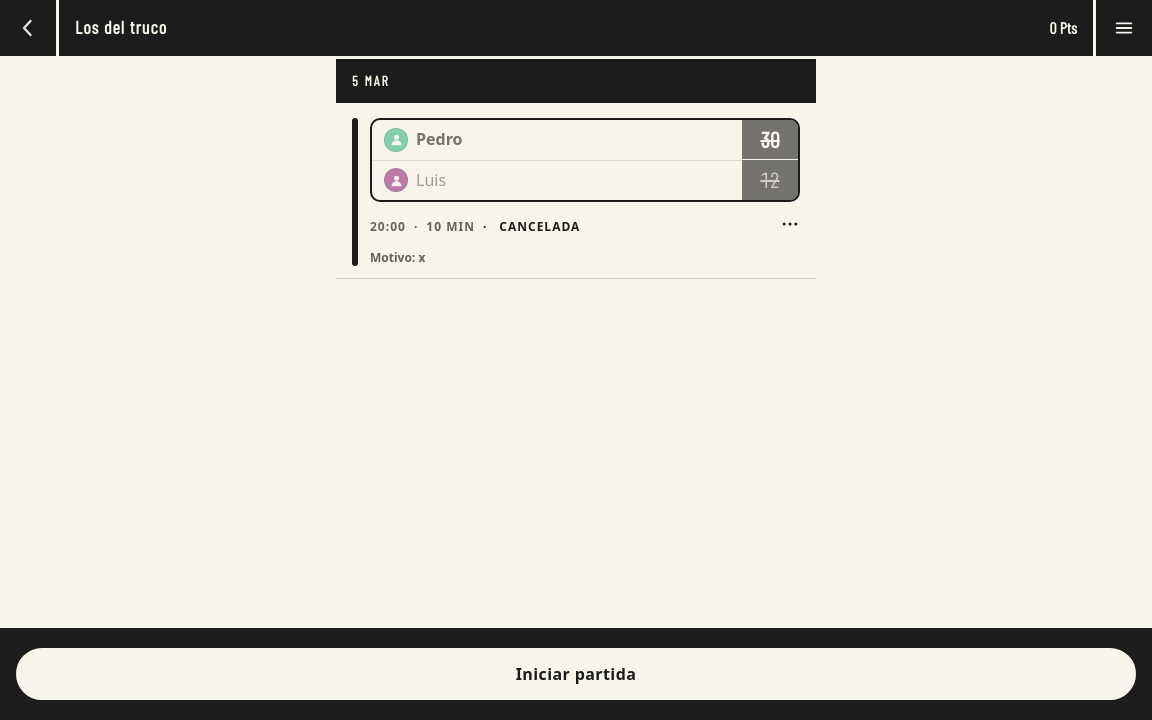
cancelar y restaurar partidas › restaura una partida cancelada
Click the button named "Opciones de la partida": [790, 224] box [768,202,812,246]
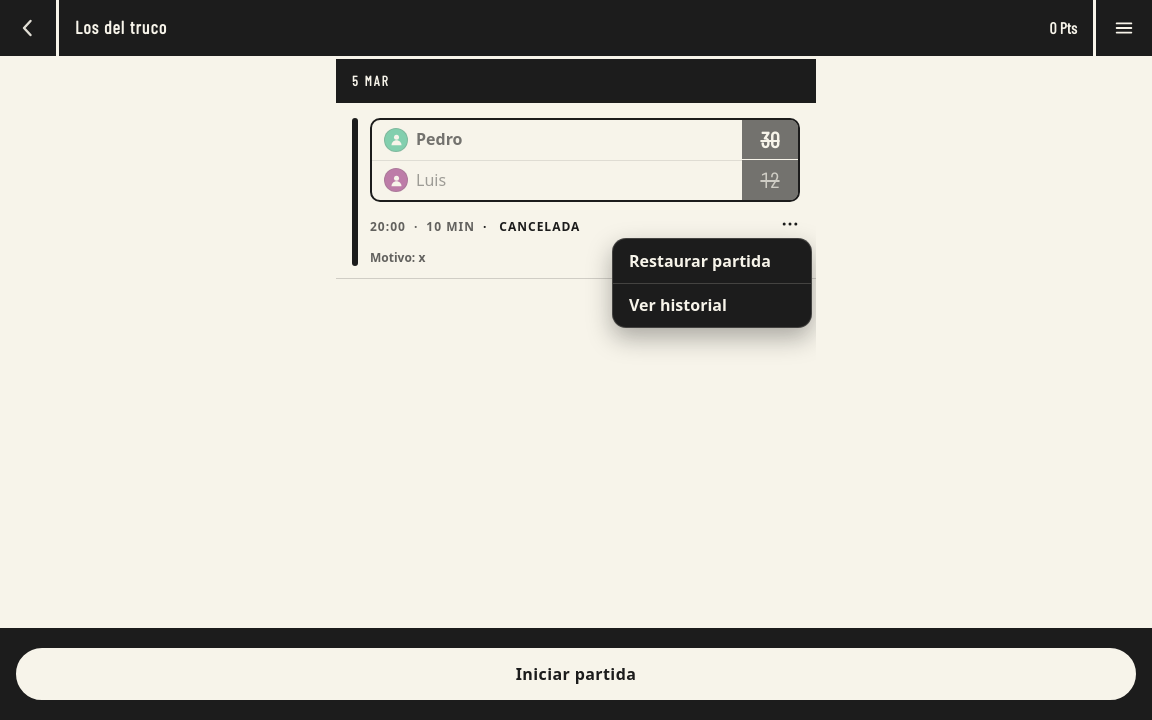
Click the menu item "Restaurar partida": [712, 261] box [613,239,811,283]
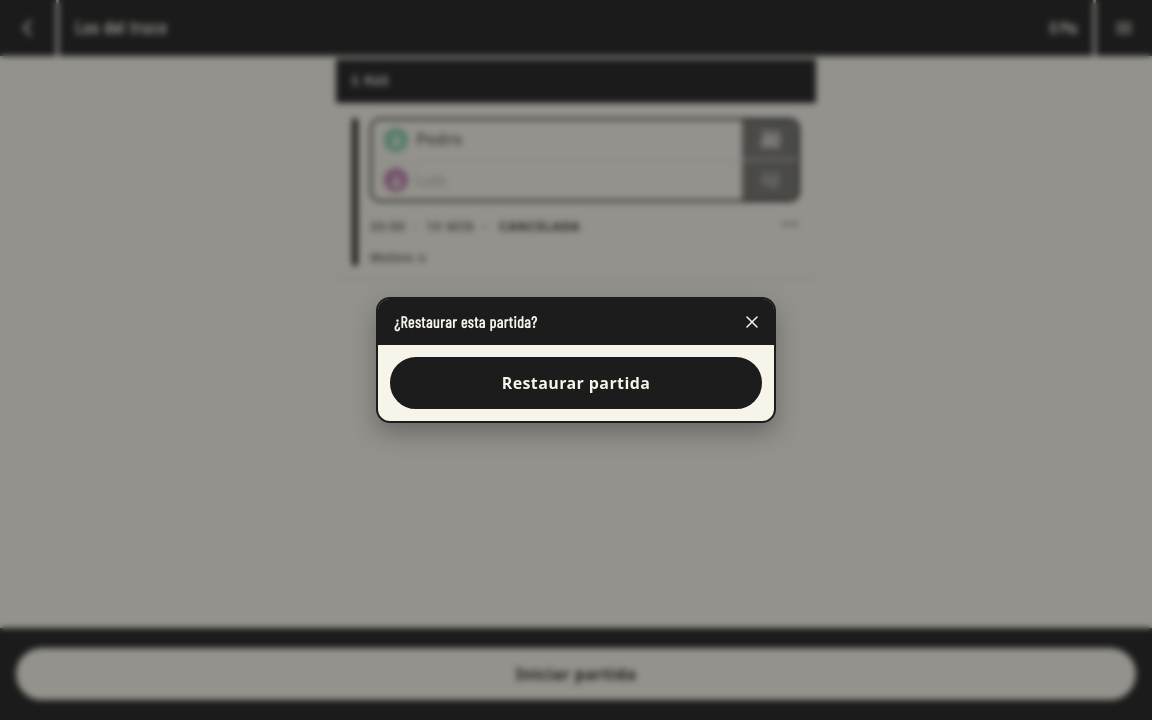
Click the button "Restaurar partida": [576, 383] box [390,357,762,409]
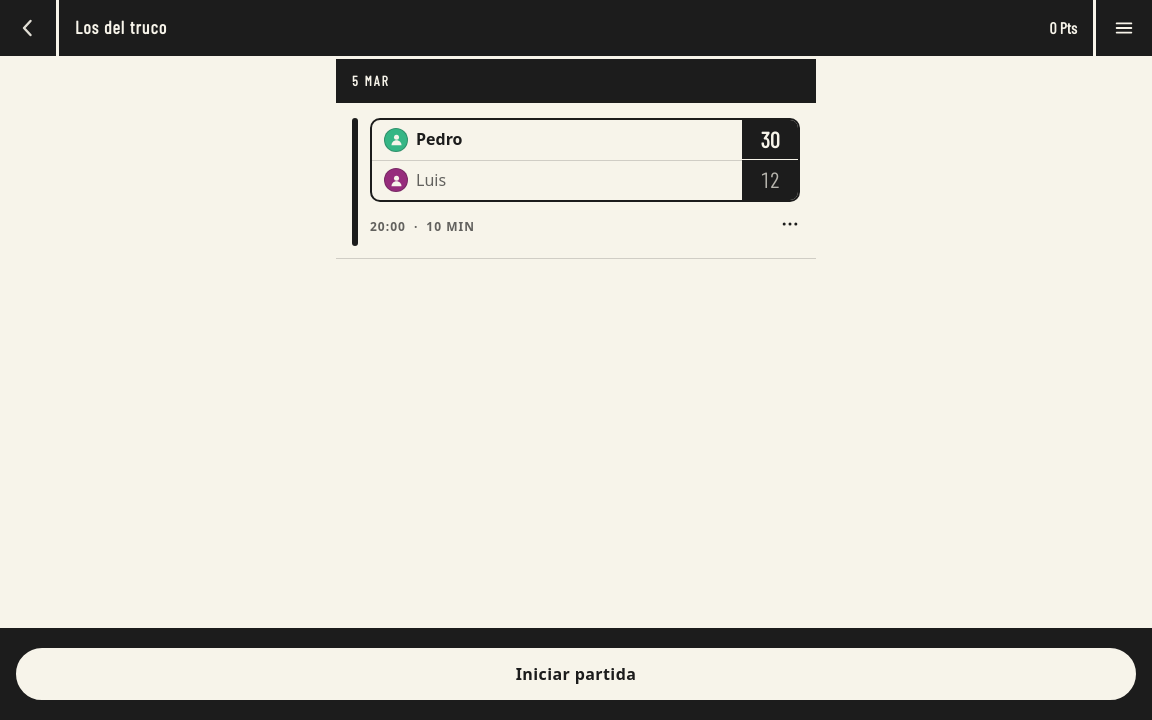
Now the text "Cancelada" is gone
